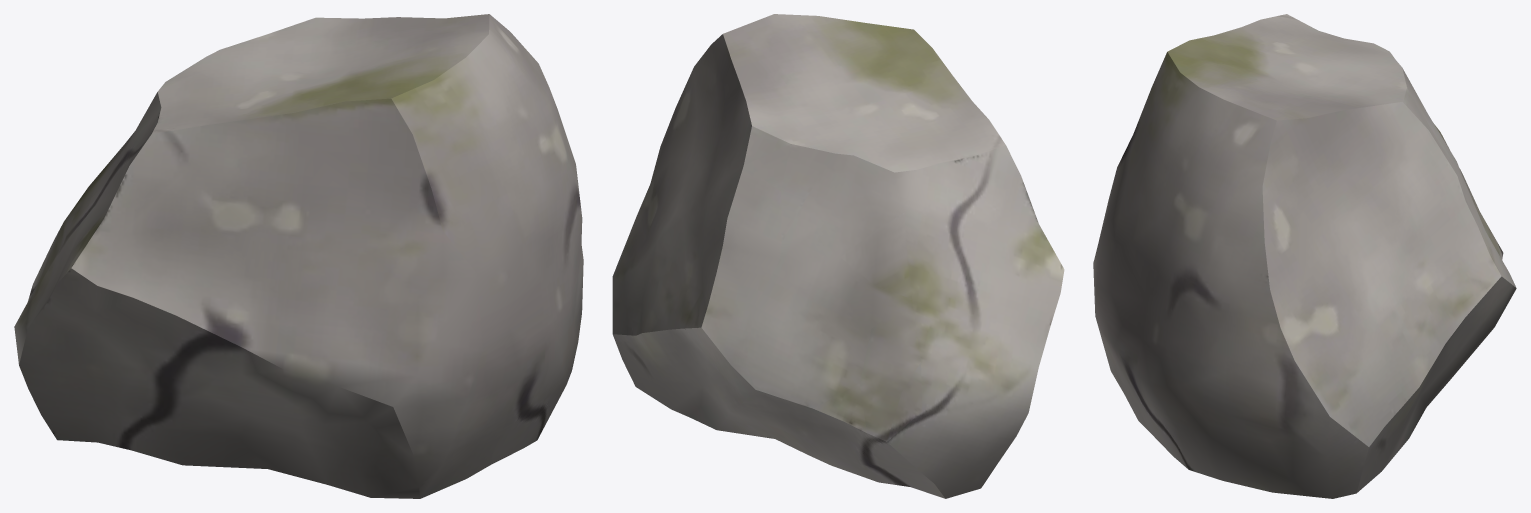
File: rockB.glb
3 views of the same model, side by side, from view 1: azimuth 30°, elevation 25°; view 2: azimuth 150°, elevation 25°; view 3: azimuth 270°, elevation 25° (orthographic). The views are drawn at different scales.
Visible parts, largest first — view 1: low; view 2: low; view 3: low.
Part boxes in pixels (<box>): low: <box>14,14,583,498</box>; low: <box>612,14,1064,498</box>; low: <box>1093,14,1516,498</box>.
Bounding box in the file's own units: 1.38 × 1.04 × 1.11.
Materials: 1 (1 with a texture image).
